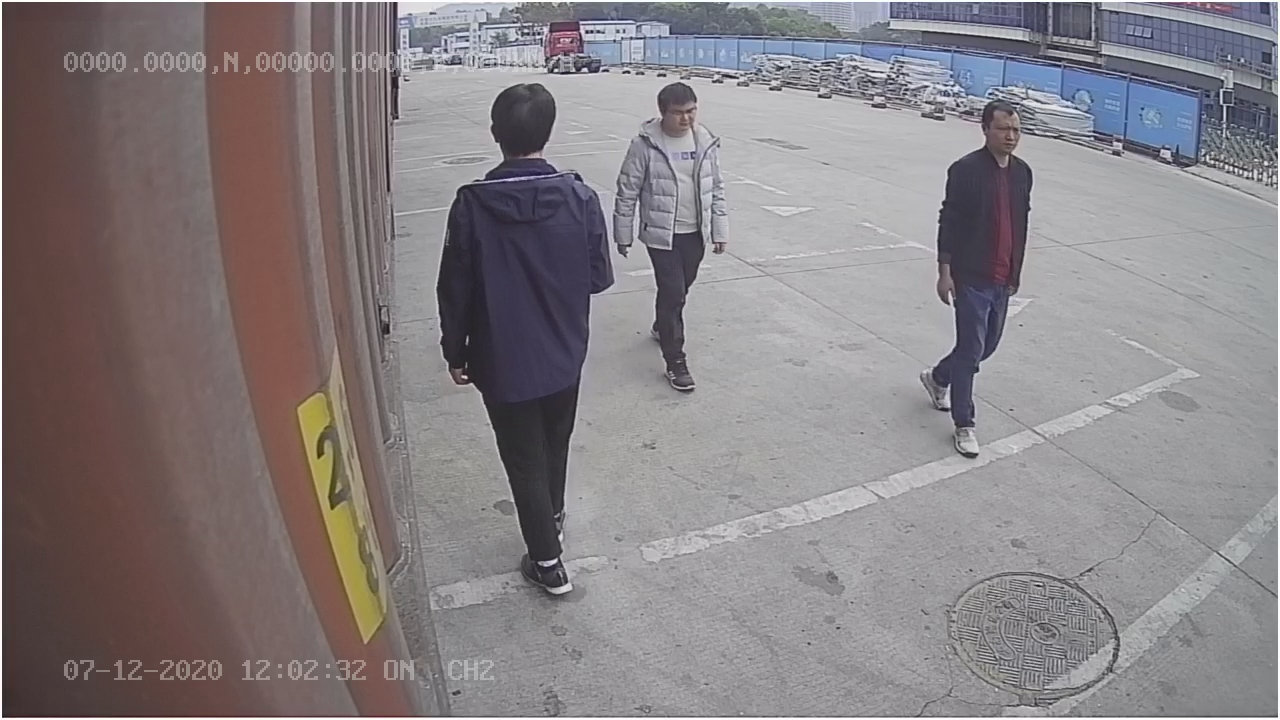person: (432, 57, 613, 597), (915, 90, 1036, 458)
